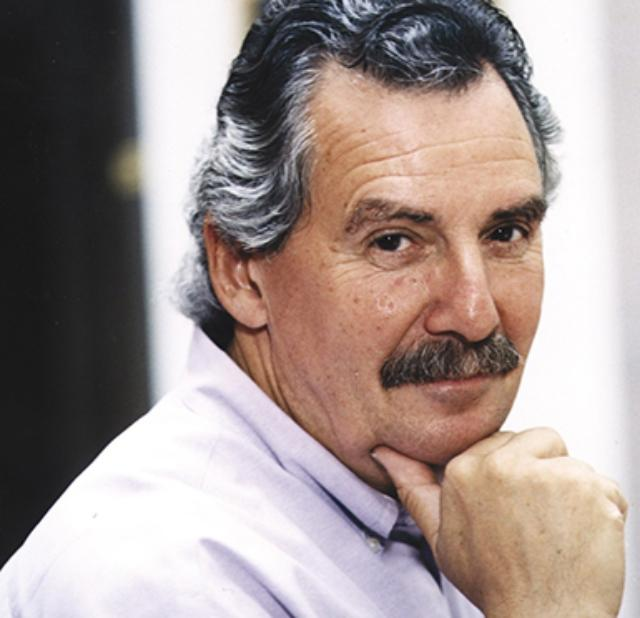crows_feet: (329, 242, 367, 274)
forehead: (338, 133, 394, 191), (491, 140, 535, 168), (403, 135, 447, 154)
gummy_smile: (390, 298, 422, 352)
